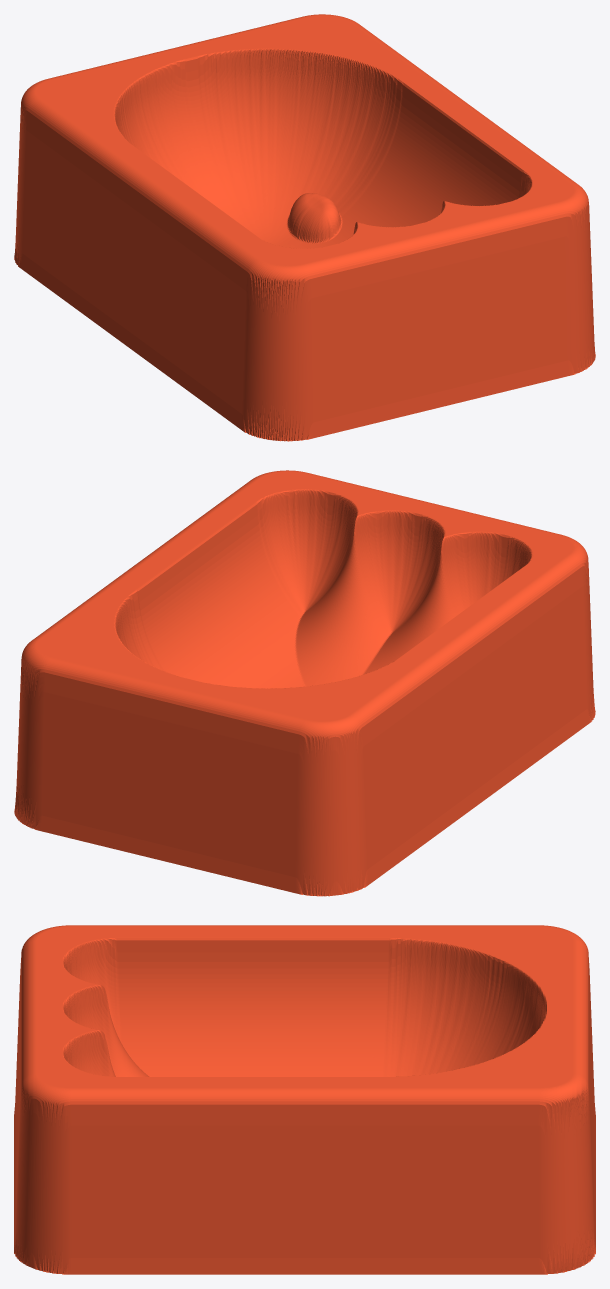
The model's file is mold.glb.
The picture shows the model from 3 angles, top to bottom: view 1: azimuth 30°, elevation 25°; view 2: azimuth 150°, elevation 25°; view 3: azimuth 270°, elevation 25°; orthographic projection. The views are drawn at different scales.
Visible parts, largest first — view 1: geometry_0; view 2: geometry_0; view 3: geometry_0.
Part boxes in pixels (x1=…): geometry_0: x1=14, y1=14, x2=595, y2=441; geometry_0: x1=14, y1=470, x2=595, y2=896; geometry_0: x1=14, y1=925, x2=595, y2=1274.
Size of the model in its own units: 0.0678 by 0.031 by 0.0924.
